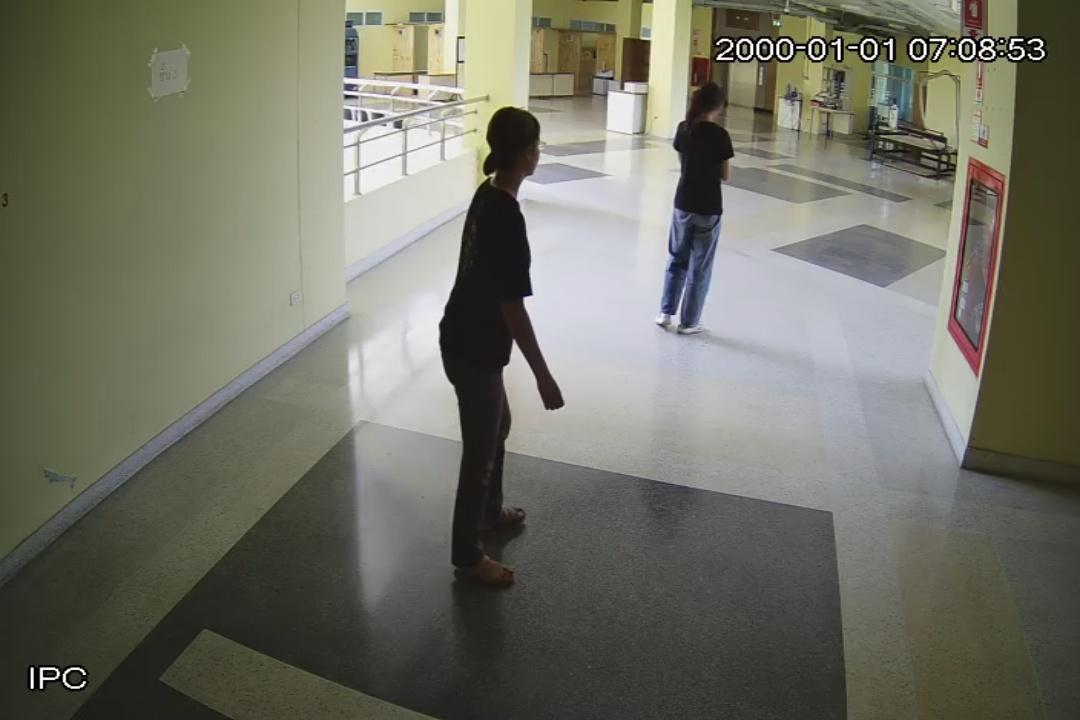normal: (431, 99, 570, 595), (651, 77, 739, 338)
